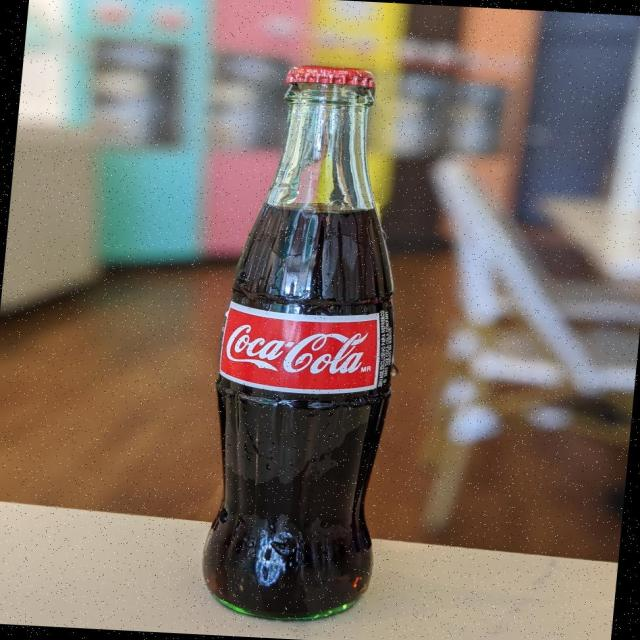coca-cola: (190, 51, 430, 626)
